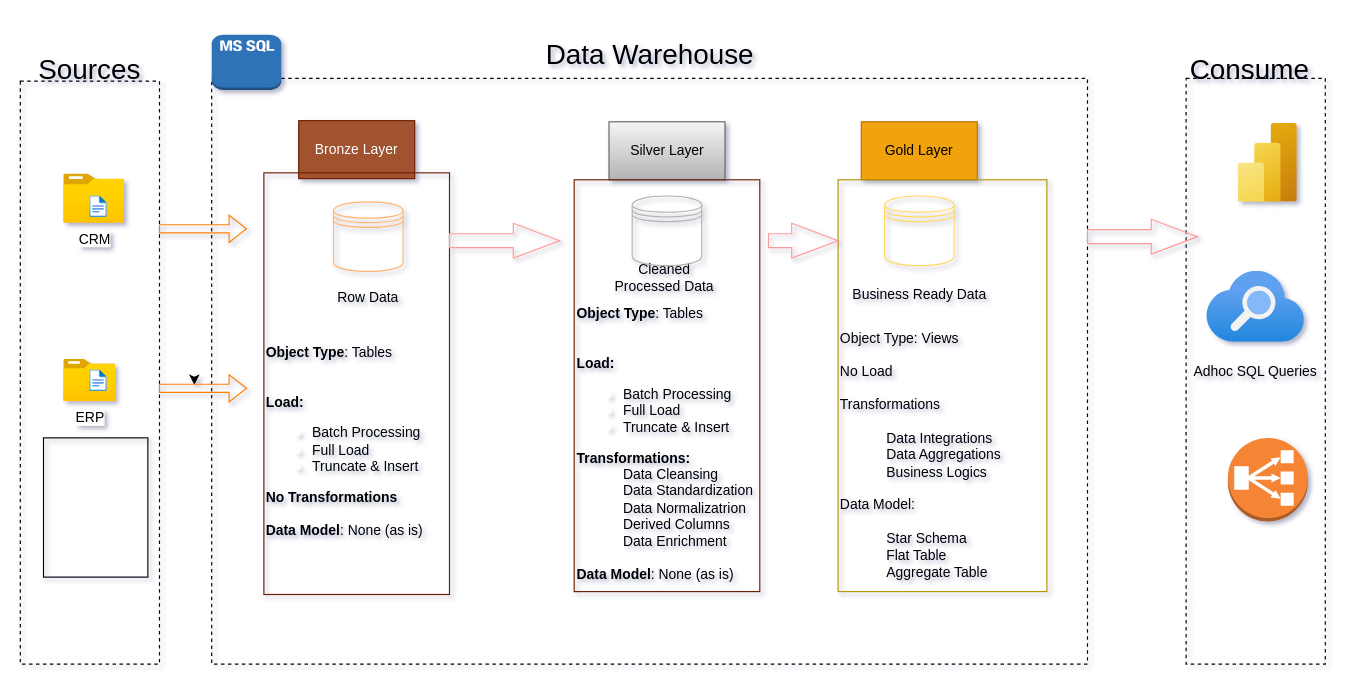
This 1358x691 diagram has some shape labels left out. Here are the shapes that lost their labels. From the top down, the box of each, then its label:
(1238, 123, 1297, 202): BI & Reporting
(1227, 437, 1308, 521): Machine Learning
(42, 437, 148, 577): Object Type : .csv file Interface : File in folder
